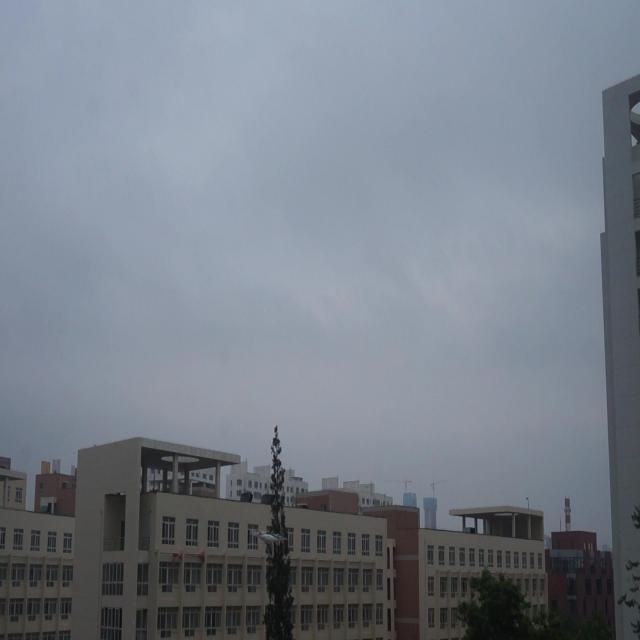UAV: (252, 529, 286, 558)
